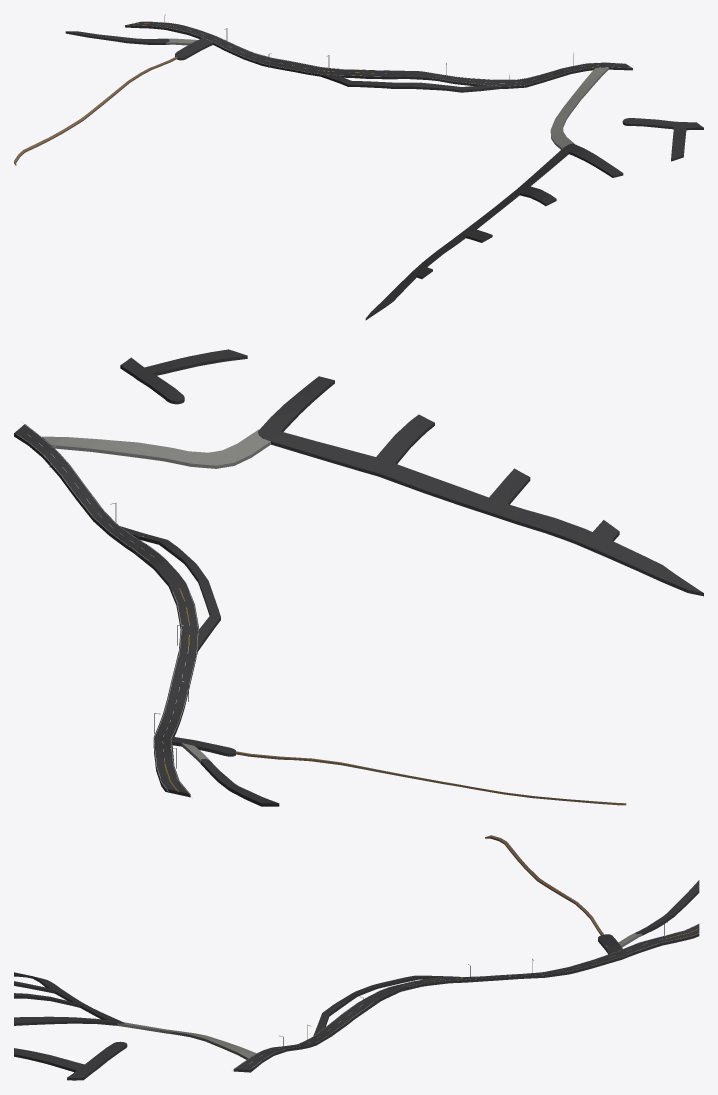
The picture shows the model from 3 angles, top to bottom: view 1: azimuth 30°, elevation 25°; view 2: azimuth 150°, elevation 25°; view 3: azimuth 270°, elevation 25°; orthographic projection. The views are drawn at different scales.
Bounding box in the file's own units: 296 × 57.74 × 293.
